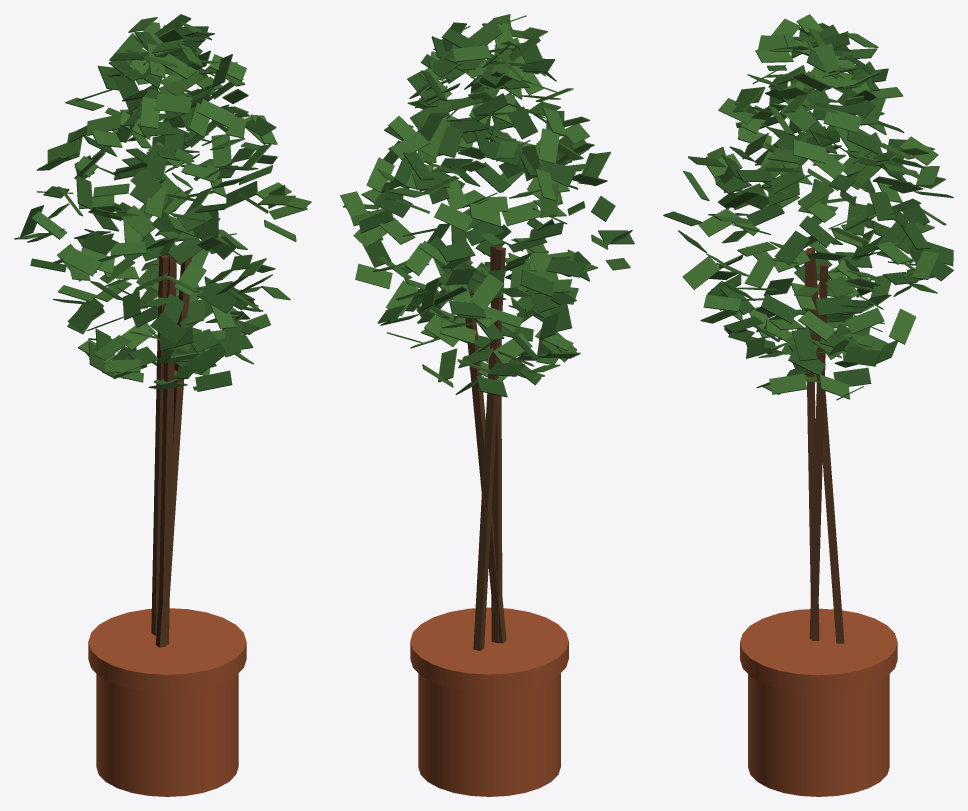
Rendered from SM_80s_Ficus.glb.
3 views of the same model, side by side, from view 1: azimuth 30°, elevation 25°; view 2: azimuth 150°, elevation 25°; view 3: azimuth 270°, elevation 25° (orthographic).
Visible parts, largest first — view 1: SM_80s_Ficus; view 2: SM_80s_Ficus; view 3: SM_80s_Ficus.
Boxes of the visible parts, bbox=[...] form: SM_80s_Ficus: bbox=[14, 14, 311, 796]; SM_80s_Ficus: bbox=[340, 14, 634, 796]; SM_80s_Ficus: bbox=[663, 14, 953, 796].
Size of the model in its own units: 0.9976 by 2.73 by 0.9737.
